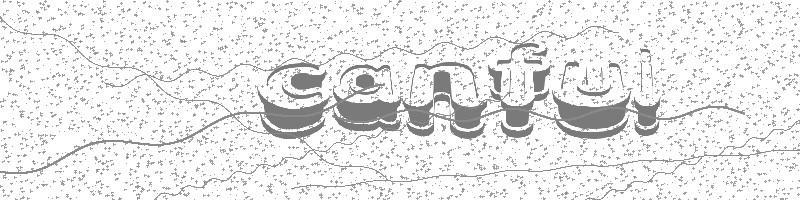a: (332, 63, 400, 131)
c: (255, 62, 328, 139)
f: (488, 40, 550, 138)
l: (633, 46, 661, 138)
n: (403, 60, 486, 140)
u: (552, 58, 631, 140)
